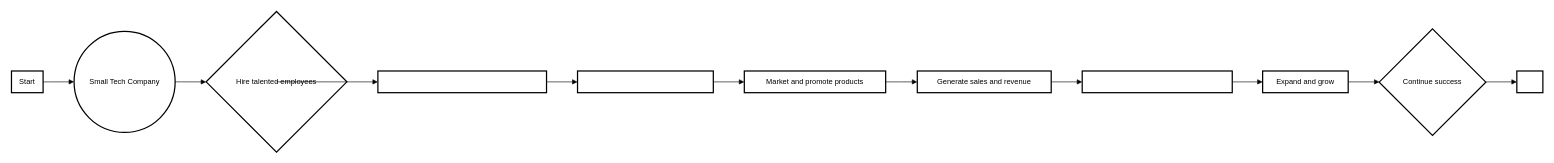
This 1554x163 diagram has some shape labels left out. The centre of each missing label's shape, as x and y in pixels:
"Develop innovative products" goes at (x=645, y=81).
"End" goes at (x=1529, y=81).
"Invest in research and development" goes at (x=462, y=81).
"Invest profits into new projects" goes at (x=1157, y=81).
